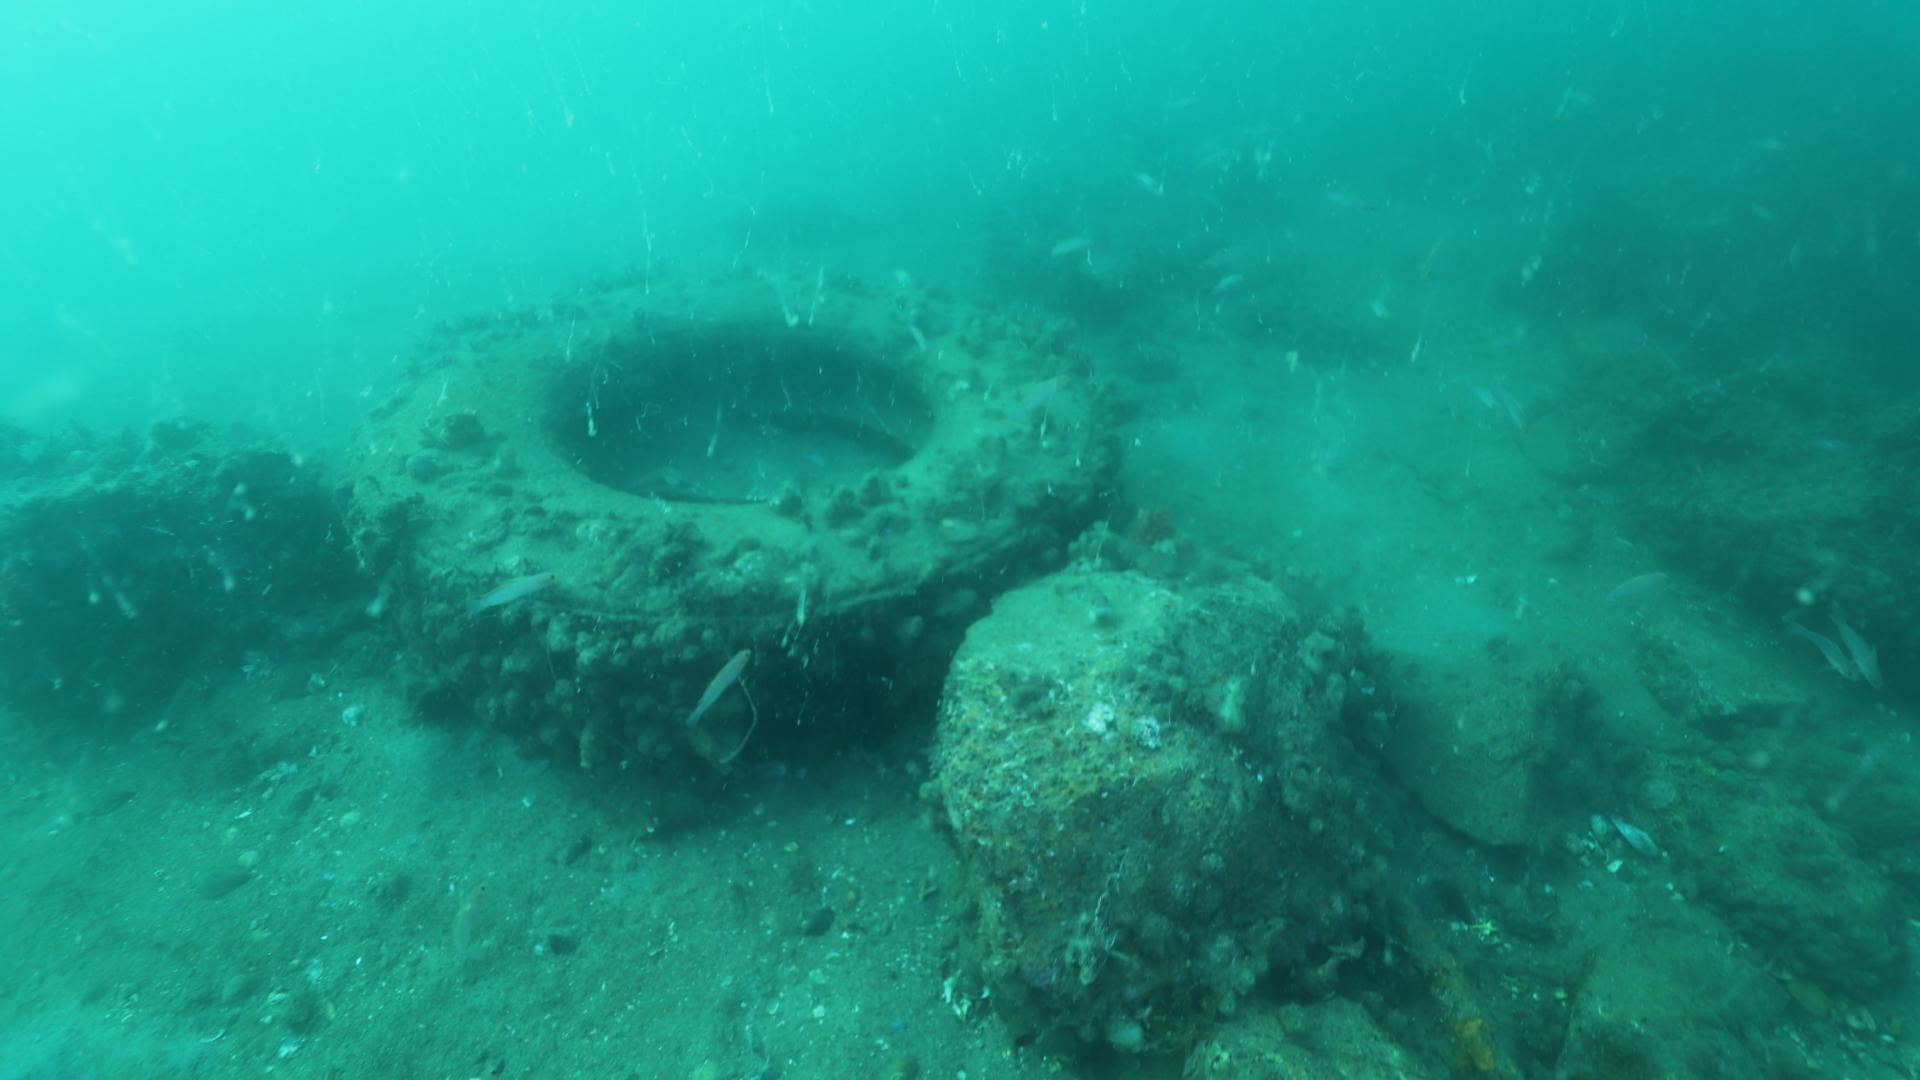tire: (347, 265, 1104, 713)
